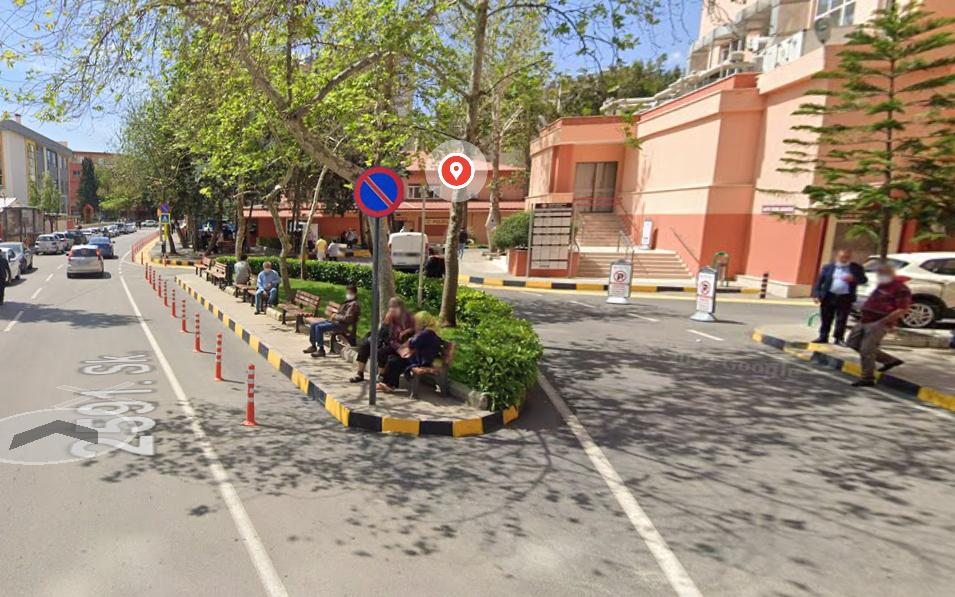nopark: (355, 167, 403, 217)
